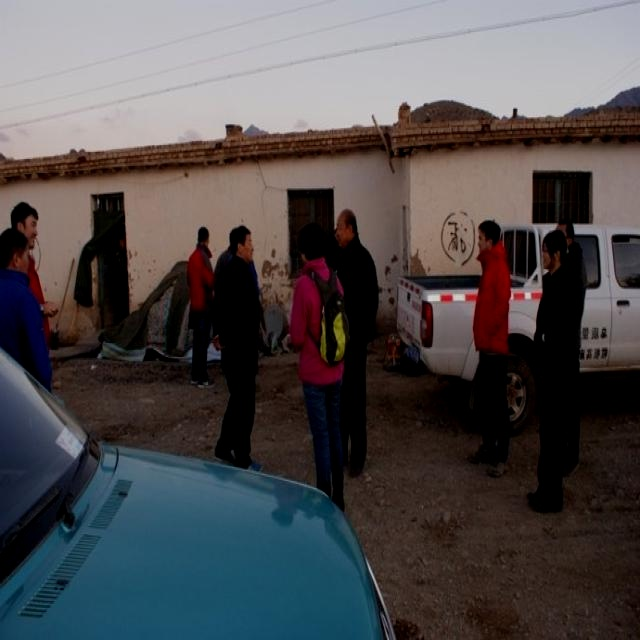Sin_Casco_Mascarrilla: (228, 225, 254, 263), (338, 209, 359, 248)
Sin_Chaleco: (292, 266, 344, 381), (472, 256, 511, 352)
